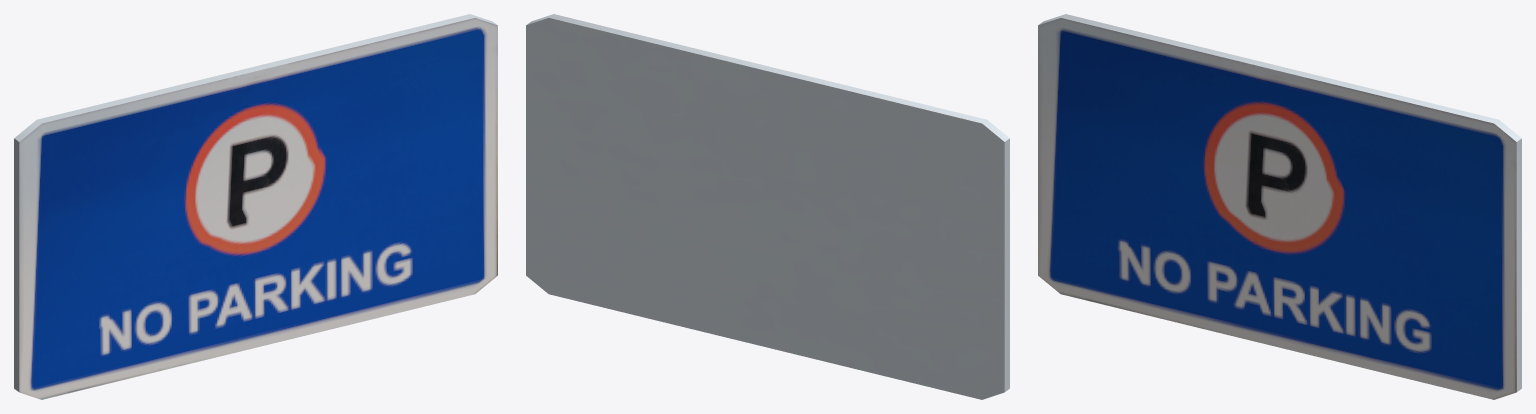
Rendered from SIgnBoard_15.fbx.
3 views of the same model, side by side, from view 1: azimuth 30°, elevation 25°; view 2: azimuth 150°, elevation 25°; view 3: azimuth 330°, elevation 25° (orthographic).
Visible parts, largest first — view 1: SIgnBoard_15; view 2: SIgnBoard_15; view 3: SIgnBoard_15.
Boxes of the visible parts, x1,y1,x2,y2 form: SIgnBoard_15: (14, 14, 497, 399); SIgnBoard_15: (526, 14, 1009, 399); SIgnBoard_15: (1038, 14, 1521, 399).
Bounding box in the file's own units: 1.56 × 0.8635 × 0.0292.
